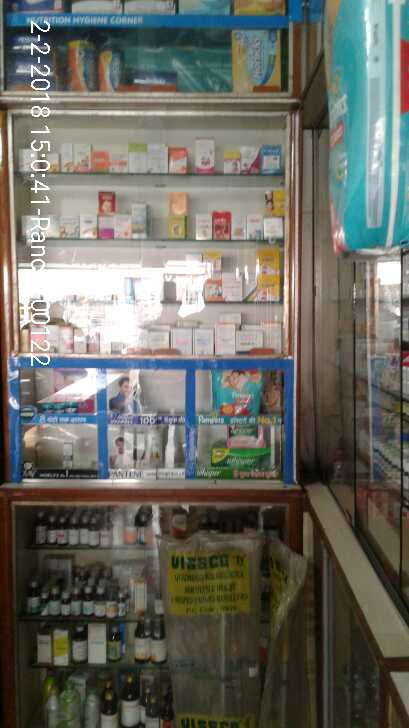vicks: (34, 400, 90, 421)
